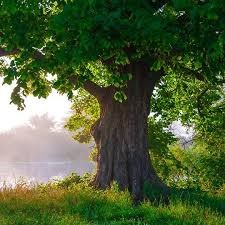grass: (2, 183, 223, 222)
tree: (85, 66, 168, 202)
